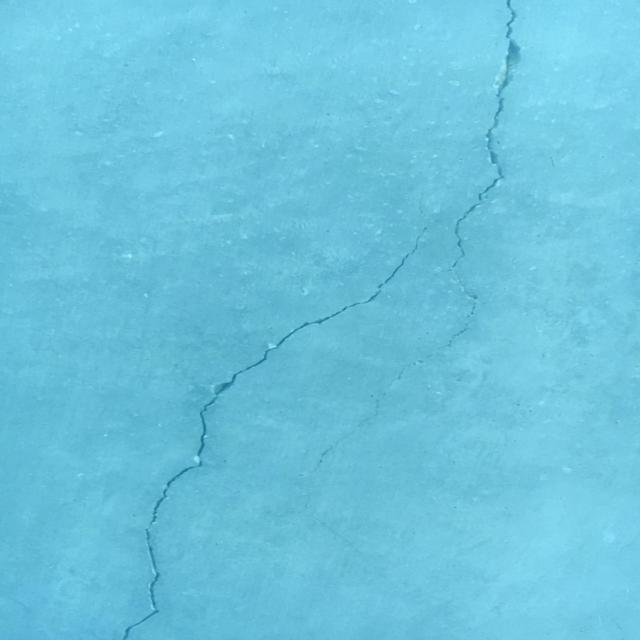crack: (122, 188, 430, 640), (286, 0, 521, 580)
